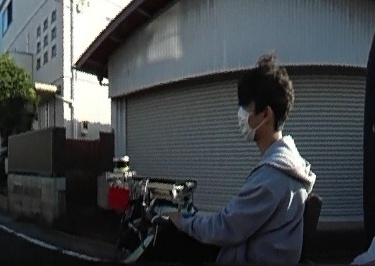person: (197, 57, 316, 266)
